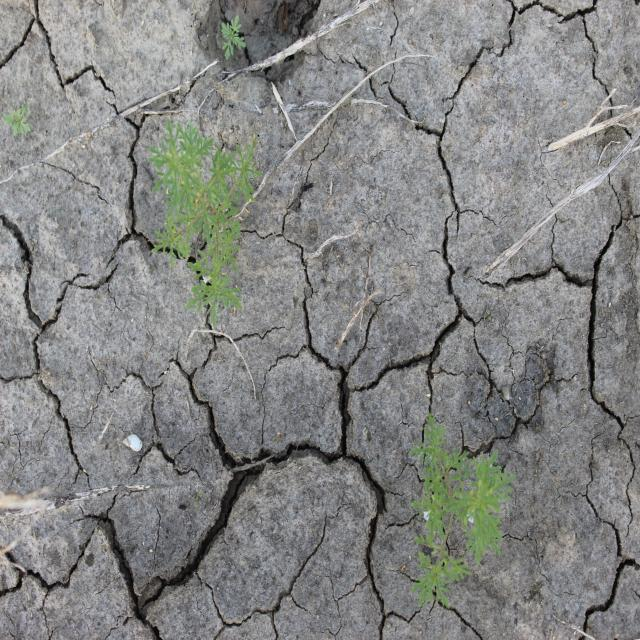Ragweed: (146, 115, 264, 330), (407, 410, 517, 610), (221, 14, 247, 61), (1, 101, 32, 137)
